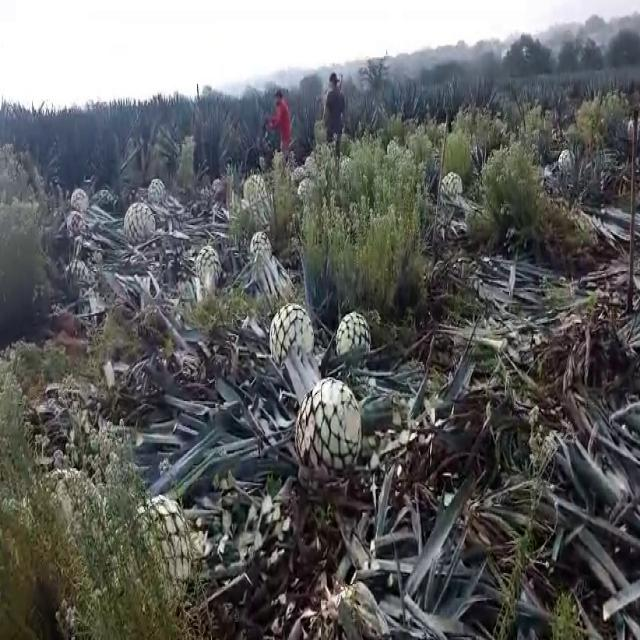agave: (125, 496, 193, 612), (294, 373, 362, 480), (268, 302, 317, 376), (332, 306, 372, 367), (121, 199, 157, 251), (242, 171, 272, 217), (195, 242, 220, 290), (246, 230, 273, 272), (62, 254, 90, 290), (438, 169, 464, 205), (63, 211, 85, 241), (147, 175, 167, 208), (70, 188, 90, 215), (554, 144, 574, 168)
